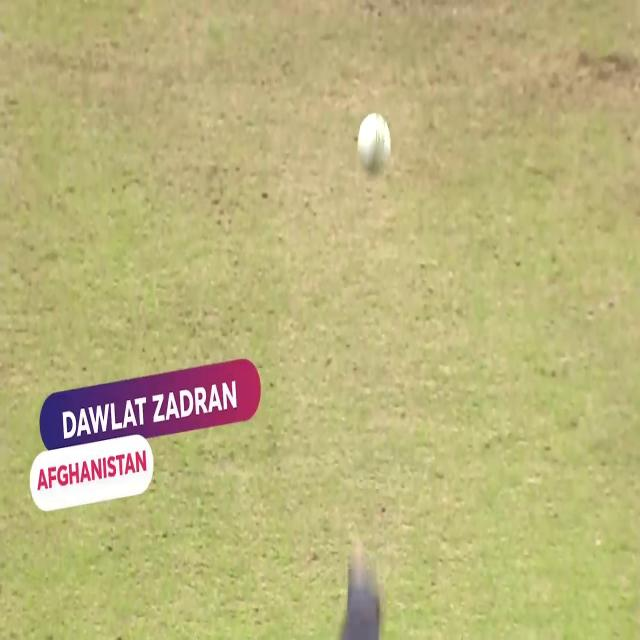ball: (357, 110, 393, 176)
